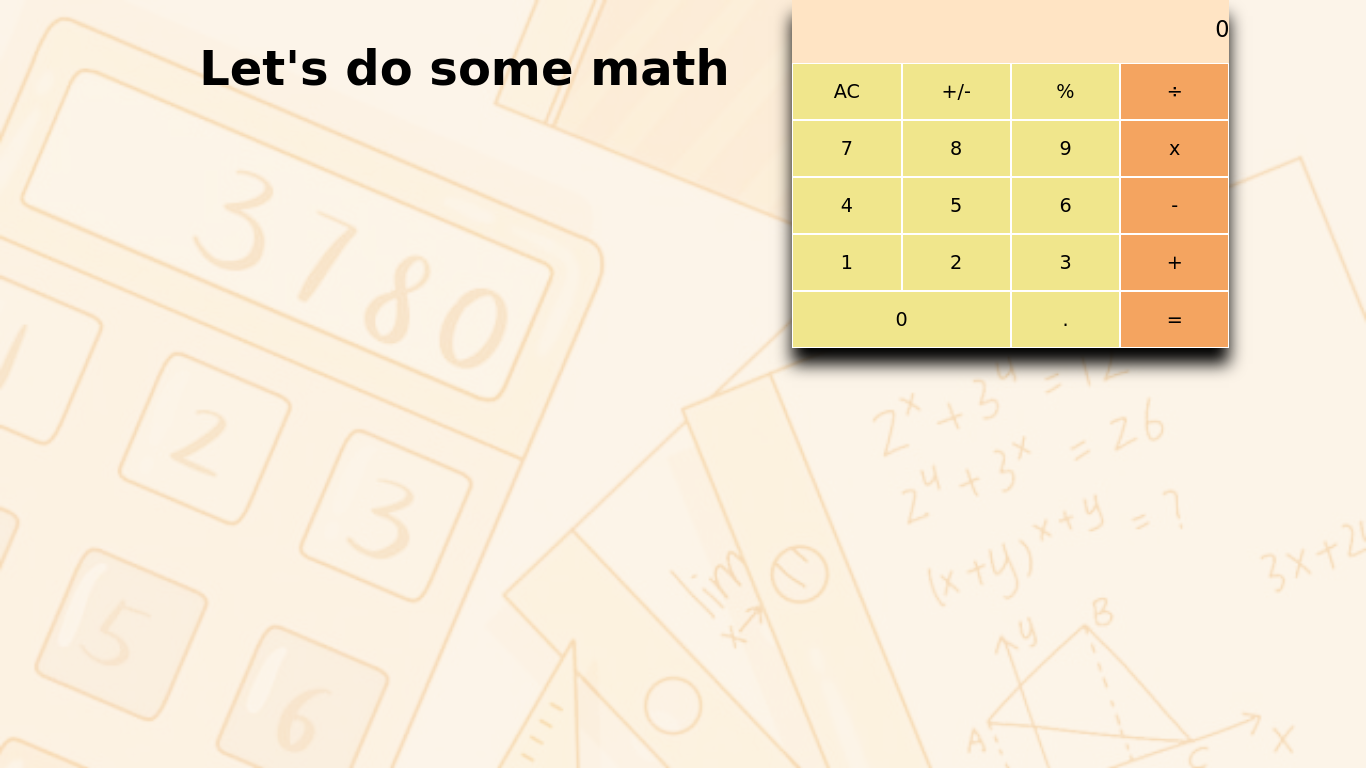
Test case: Testing user interaction › Should display addition of two numbers
Click the button "1" at {"x": 847, "y": 262}, box [792, 234, 902, 291]
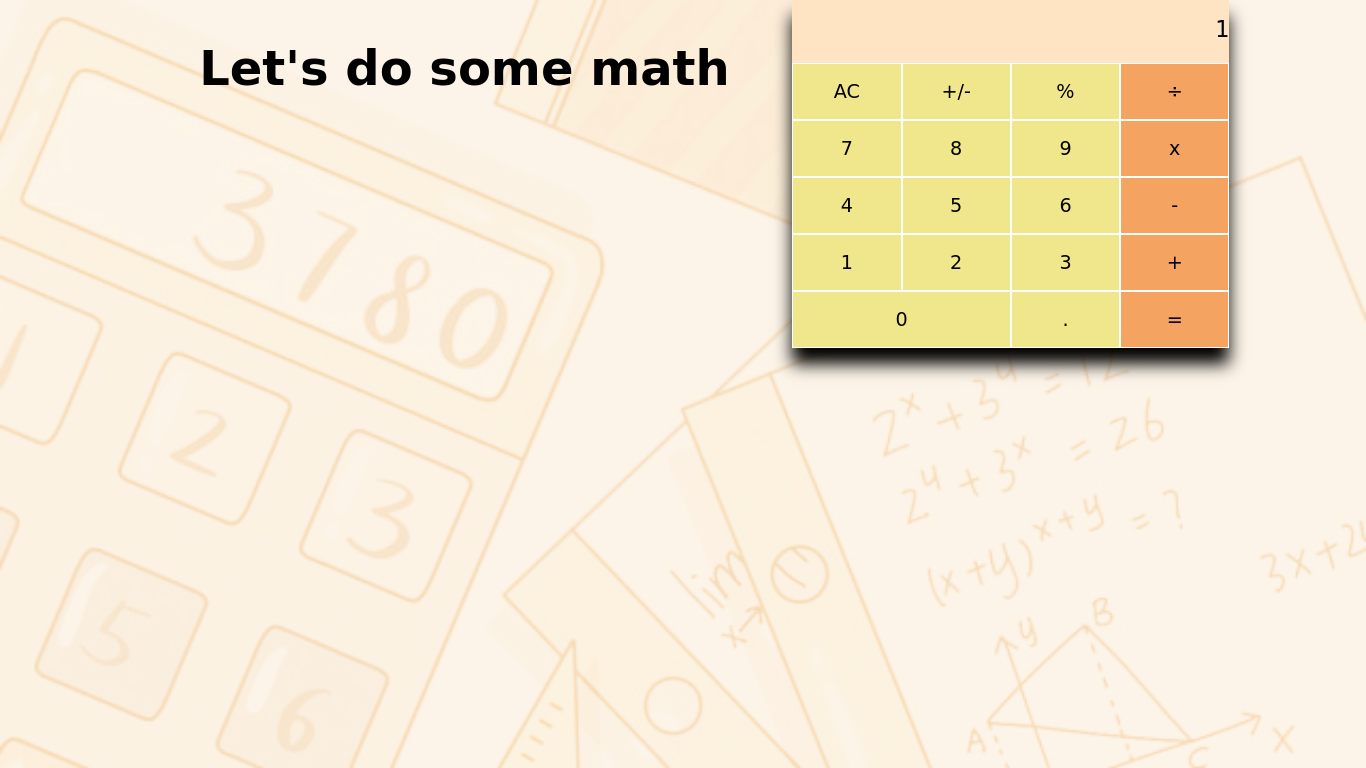
Click the button "+" at {"x": 1175, "y": 262}, box [1120, 234, 1229, 291]
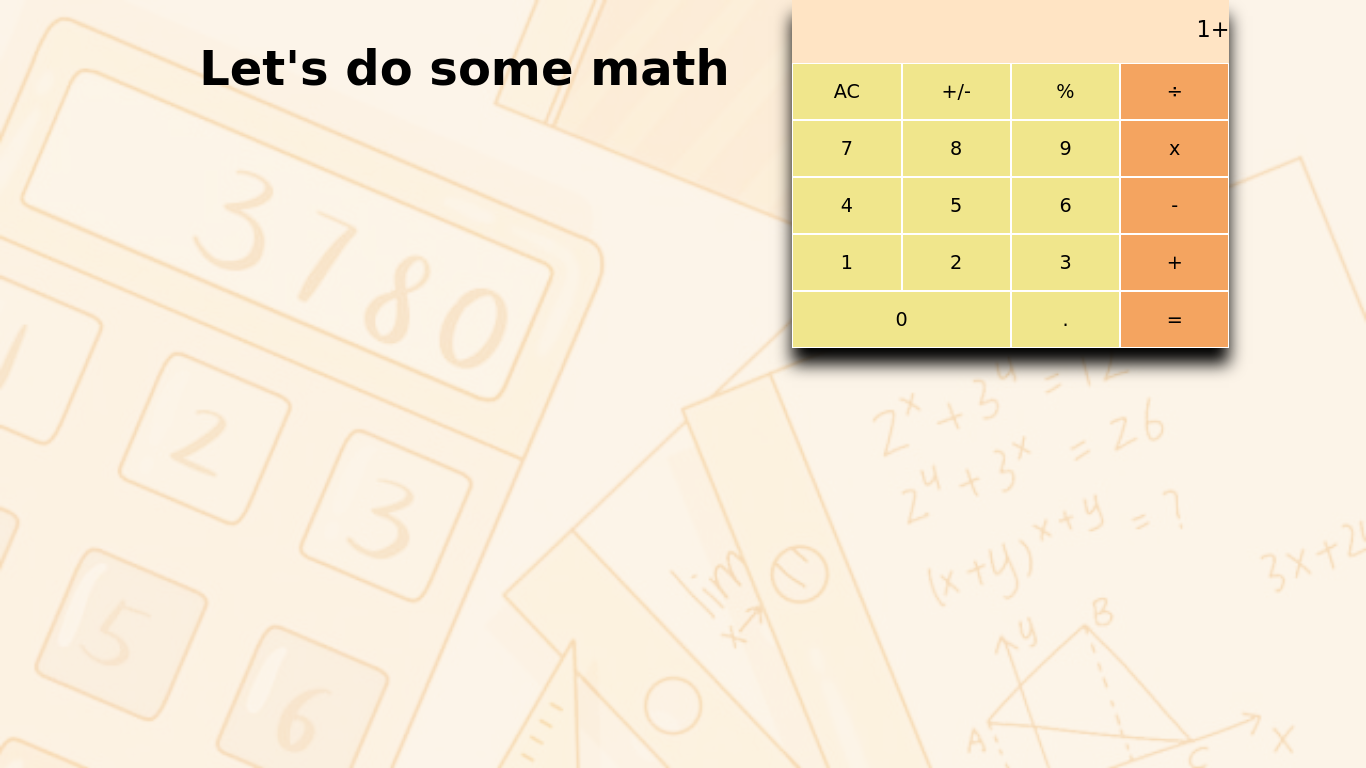
Click the button "2" at {"x": 956, "y": 262}, box [902, 234, 1011, 291]
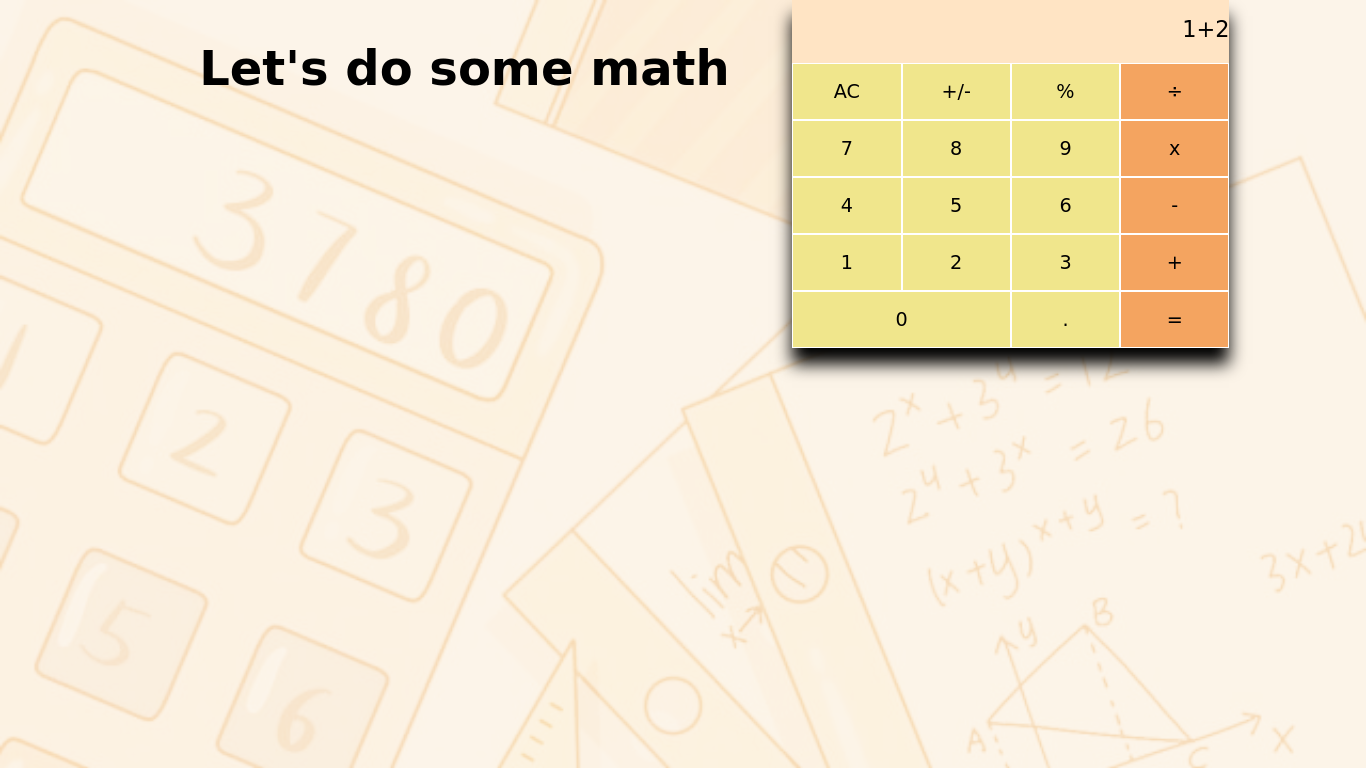
Click the button "=" at {"x": 1175, "y": 319}, box [1120, 291, 1229, 348]
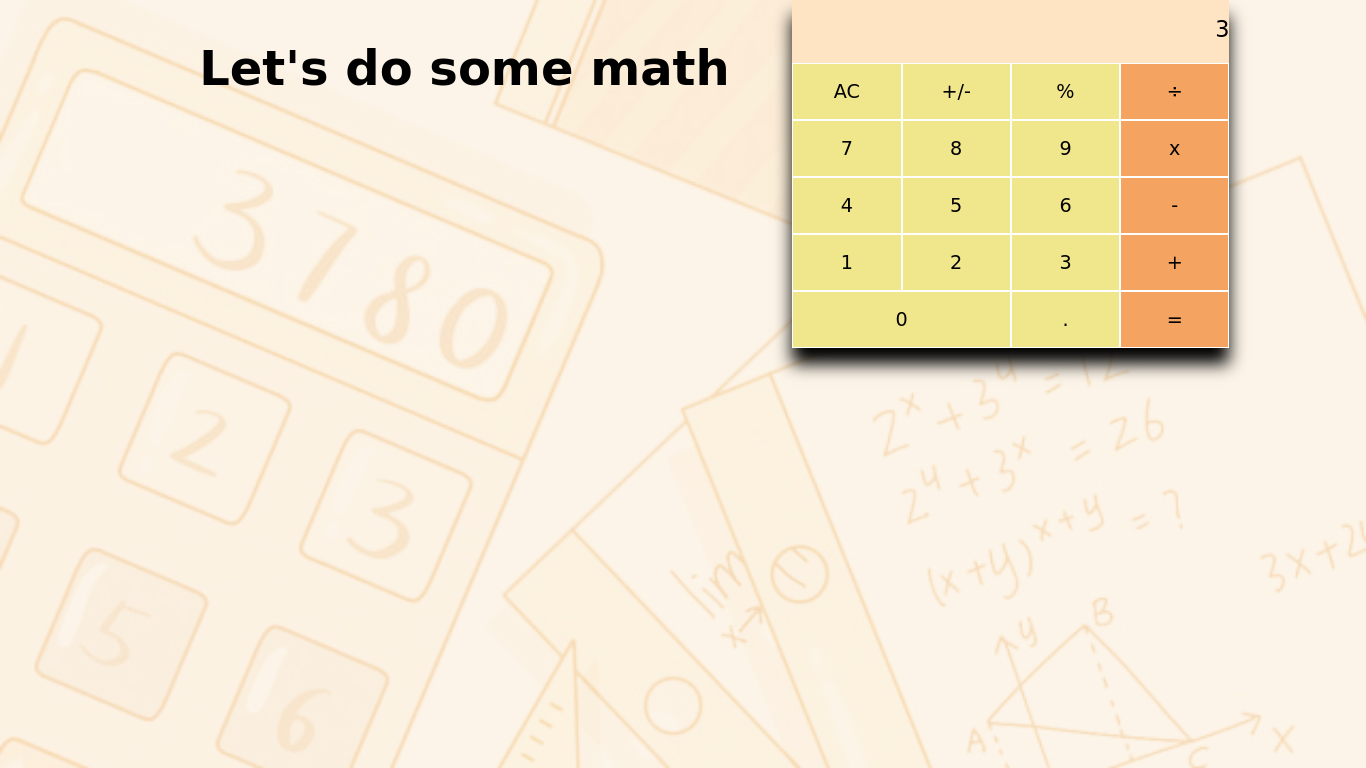
Now the text with class "display" reads "3", box [1215, 16, 1230, 42]
